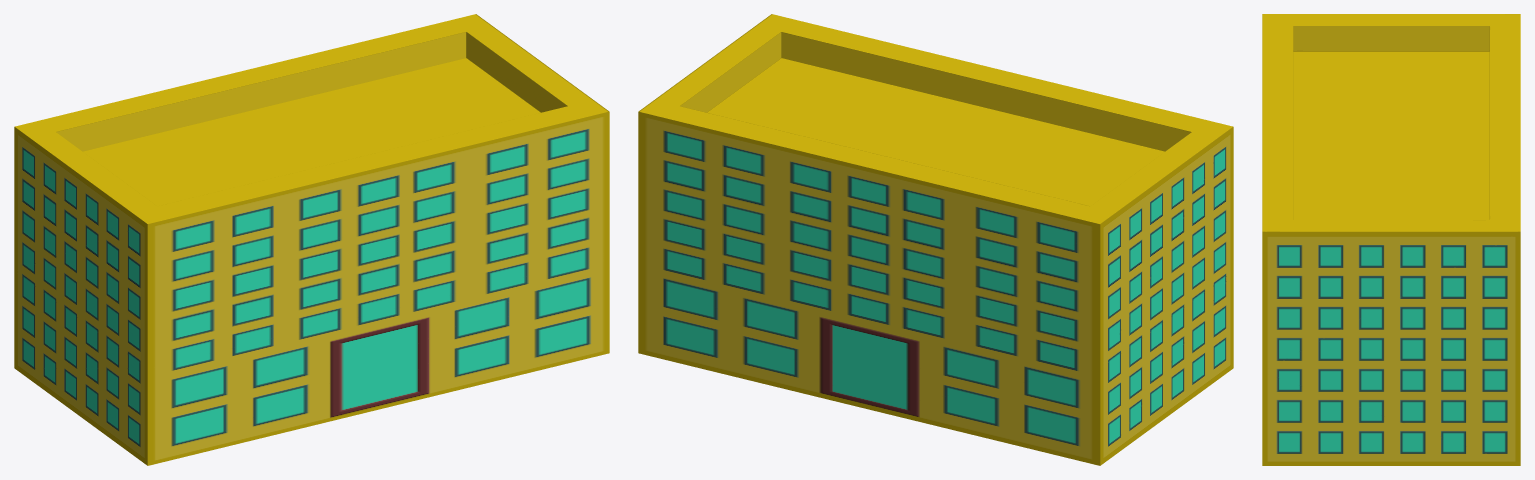
Rendered from building set 2_01.fbx.
3 views of the same model, side by side, from view 1: azimuth 30°, elevation 25°; view 2: azimuth 150°, elevation 25°; view 3: azimuth 270°, elevation 25° (orthographic). The views are drawn at different scales.
Parts seen in each view (by area): view 1: pCube3; view 2: pCube3; view 3: pCube3.
Part boxes in pixels (x1=…): pCube3: x1=14, y1=14, x2=609, y2=465; pCube3: x1=638, y1=14, x2=1233, y2=465; pCube3: x1=1262, y1=14, x2=1520, y2=465.
Bounding box in the file's own units: 11.71 × 5.85 × 5.85.
